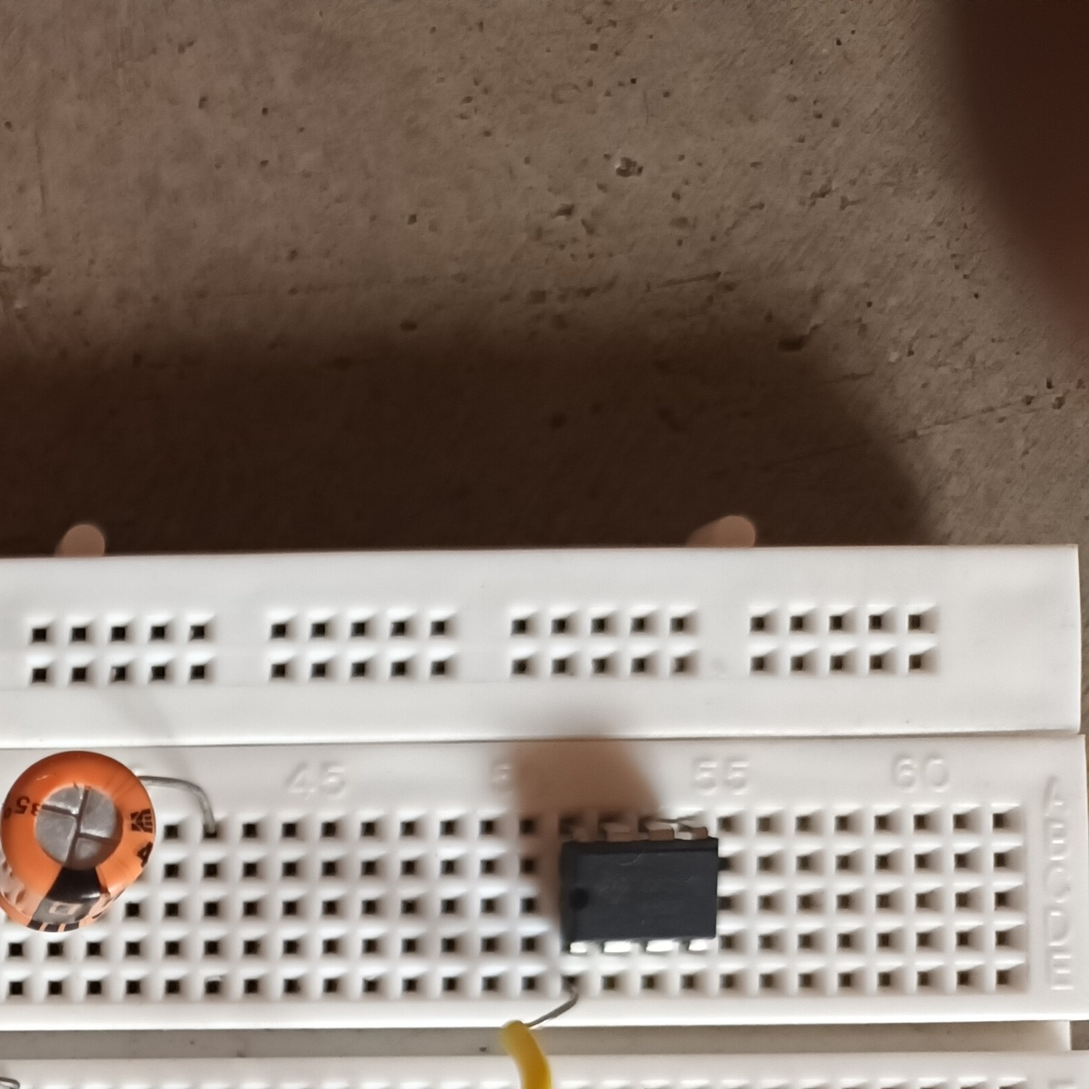capacitor: (0, 749, 159, 936)
